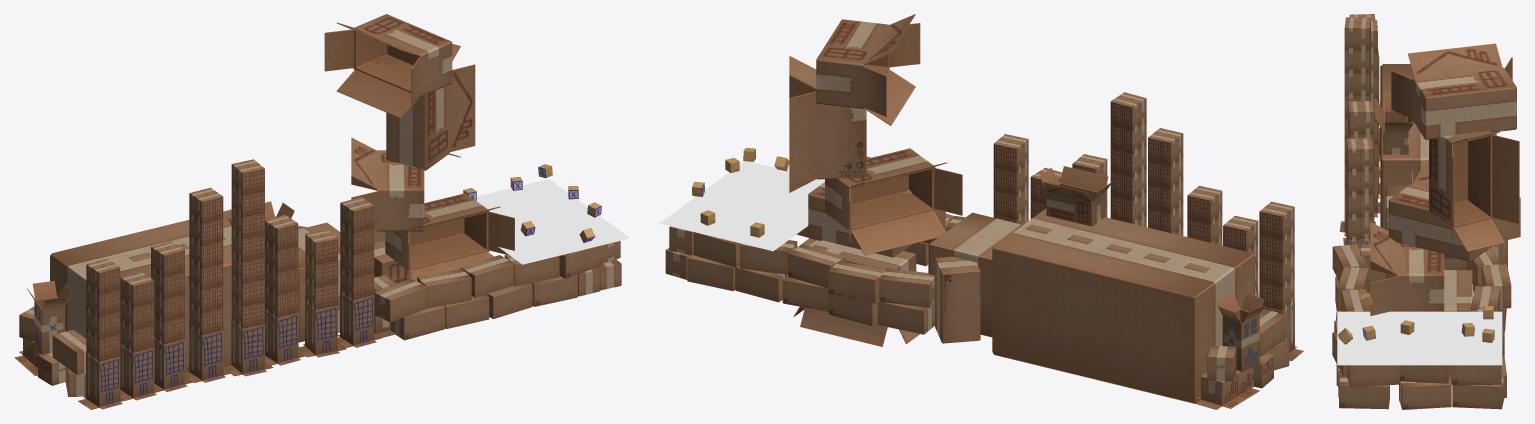
File: S2_refined.fbx
The picture shows the model from 3 angles, left to right: view 1: azimuth 30°, elevation 25°; view 2: azimuth 150°, elevation 25°; view 3: azimuth 270°, elevation 25°; orthographic projection. The views are drawn at different scales.
Parts seen in each view (by area): view 1: Plane; view 2: Plane; view 3: Plane.
Part boxes in pixels (x1,y1,x2,y2): Plane: [14, 14, 630, 409]; Plane: [659, 14, 1303, 409]; Plane: [1332, 14, 1520, 409].
Size of the model in its own units: 25038 by 12482 by 7389.
